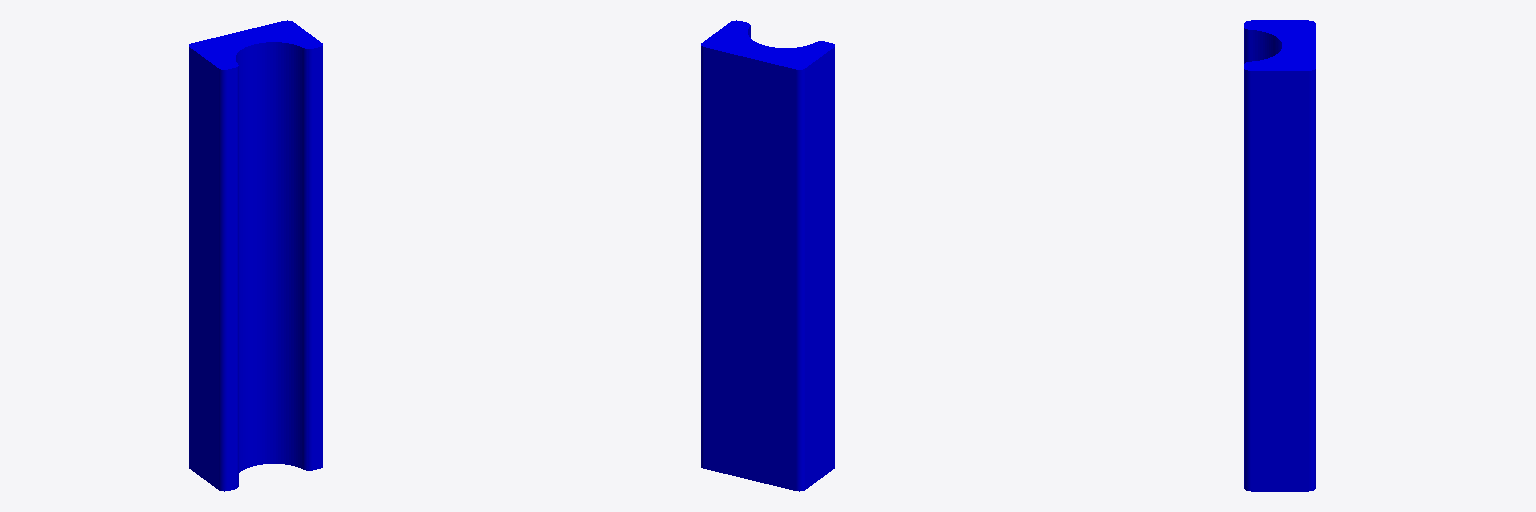
robot.urdf — board3_block15:
<?xml version="1.0"?>
<robot name="board3_block15">
    <link name="board3_block15">
        <visual>
            <origin xyz="0 0 0 " rpy=" 0 0 0"/>
            <geometry>
                <mesh filename="../meshes/SIMO_Board3_Block15.stl" scale="0.001 0.001 0.001"/>
            </geometry>
            <material name="red">
                <color rgba="0.0 0.0 1.0 1.0"/>
            </material>
        </visual>
        <collision>
            <origin xyz="0 0 0" rpy="0 0 0"/>
            <geometry>
                <mesh filename="../meshes/SIMO_Board3_Block15.stl" scale="0.001 0.001 0.001"/>
            </geometry>
        </collision>
    </link>
</robot>

--- What the picture shows (computed from the rendered views, not written in the file) ---
The picture shows the robot from 3 angles, left to right: view 1: azimuth 30°, elevation 25°; view 2: azimuth 150°, elevation 25°; view 3: azimuth 270°, elevation 25°; orthographic projection.
Model board3_block15 with 1 links and 0 joints (none), rooted at board3_block15, posed every joint at zero.
Visible links, largest first — view 1: board3_block15; view 2: board3_block15; view 3: board3_block15.
Boxes of the visible links, bbox=[...] form: board3_block15: bbox=[189, 20, 322, 491]; board3_block15: bbox=[701, 20, 834, 491]; board3_block15: bbox=[1244, 20, 1315, 491].
Bounding box of the posed robot: 0.0386 × 0.0232 × 0.15 m (x, y, z).
Meshes: 1 distinct files referenced, 1 mesh visuals loaded (1 ASCII STL).
